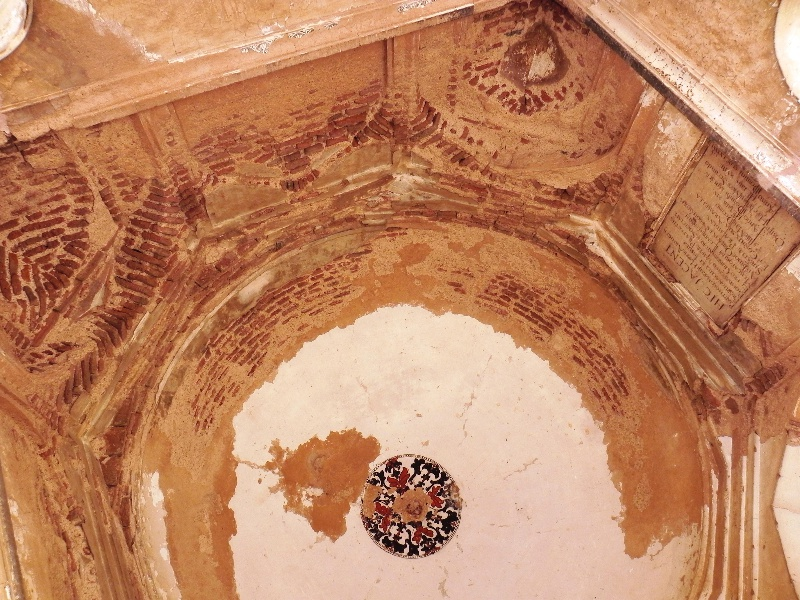Exposed Bricks: (6, 172, 185, 401), (199, 255, 356, 436), (208, 79, 457, 191), (492, 272, 635, 412)
Spalling: (270, 437, 360, 547)
